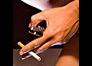Cigarette: (18, 40, 42, 60)
